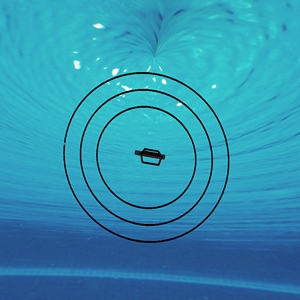circle: (53, 65, 240, 254)
submarine: (135, 147, 164, 167)
